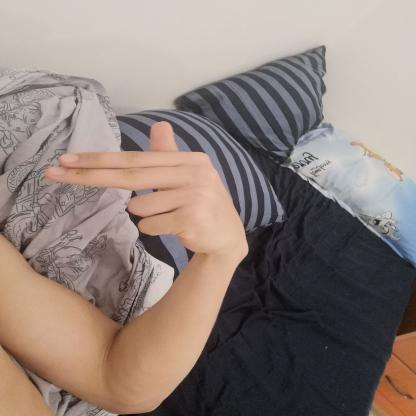GHAYN: (32, 112, 261, 262)
